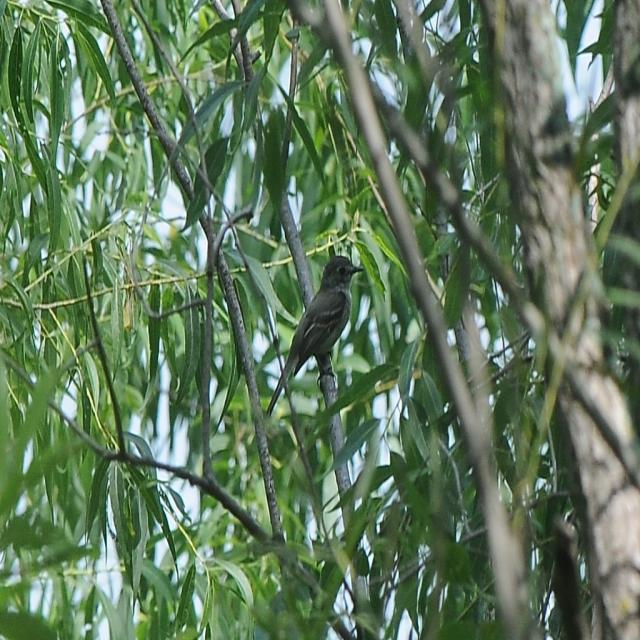bird: (266, 250, 367, 424)
